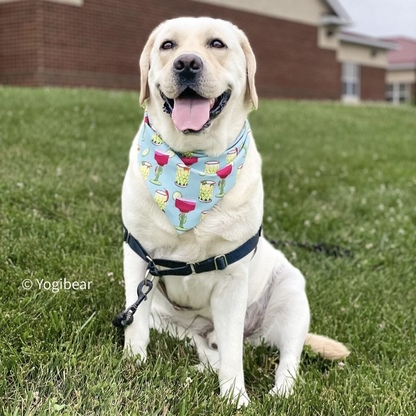labrado: (112, 13, 354, 408)
